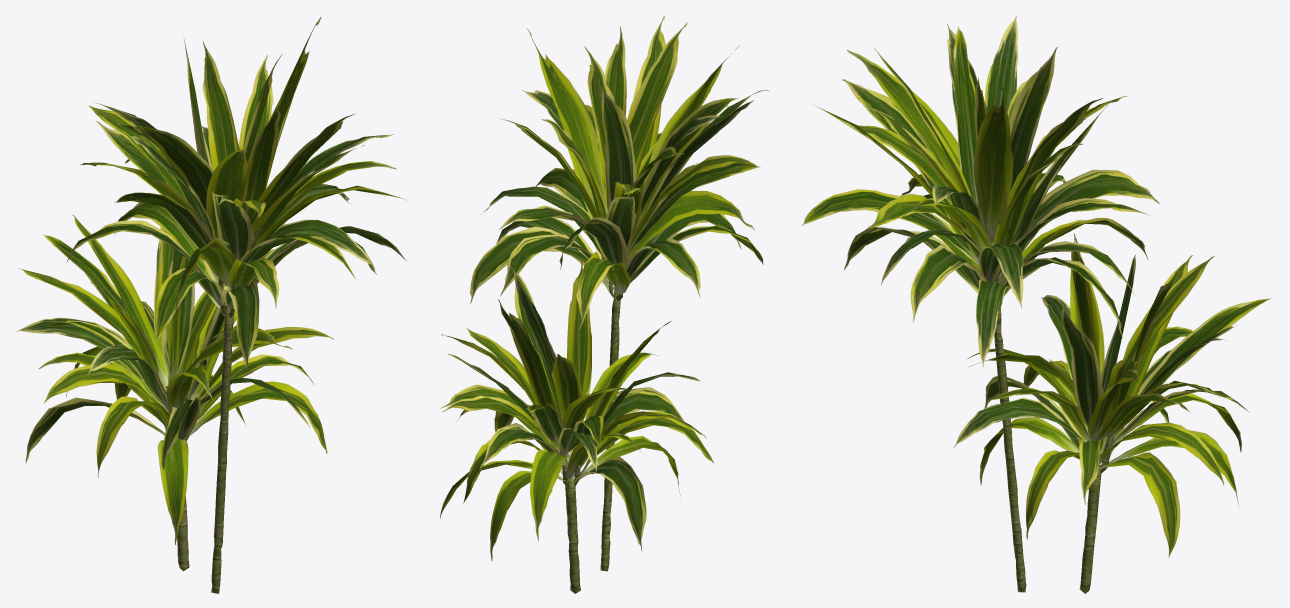
Rendered from Lemon_Lime.glb.
3 views of the same model, side by side, from view 1: azimuth 30°, elevation 25°; view 2: azimuth 150°, elevation 25°; view 3: azimuth 270°, elevation 25° (orthographic). The views are drawn at different scales.
Parts seen in each view (by area): view 1: Lemon_Lime; view 2: Lemon_Lime; view 3: Lemon_Lime.
Part boxes in pixels (x1,y1,x2,y2): Lemon_Lime: (16, 17, 406, 593); Lemon_Lime: (440, 15, 769, 593); Lemon_Lime: (801, 16, 1272, 593).
Size of the model in its own units: 1.46 by 2.68 by 2.09.
2 materials, 2 textured.
